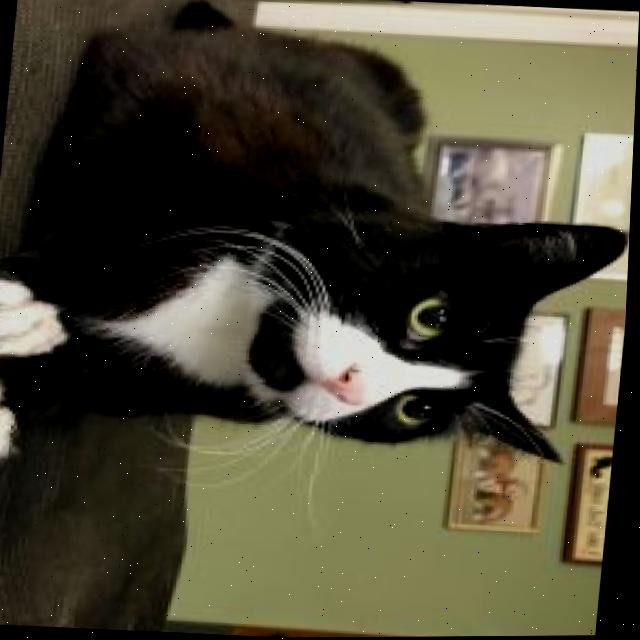Tuxedo: (0, 0, 640, 507)
